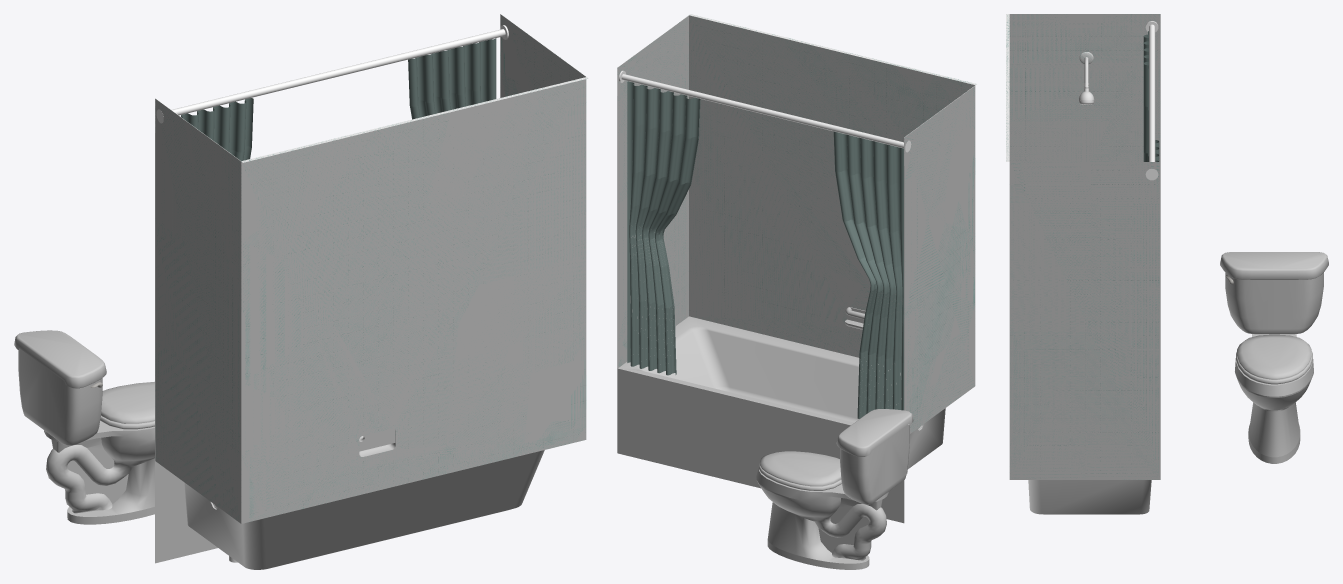
File: showerTub.dae
3 views of the same model, side by side, from view 1: azimuth 30°, elevation 25°; view 2: azimuth 150°, elevation 25°; view 3: azimuth 270°, elevation 25° (orthographic). The views are drawn at different scales.
Parts seen in each view (by area): view 1: Component_9 (×5), Bowl, Component_3 (×2), Tank (×2), Lid (×2), Component_69, Seat_Lid (×2), Component_4; view 2: Component_9 (×4), Bowl, Component_4 (×2), Component_3 (×2), Component_11 (×2), Tank (×2), Component_12 (×2), Seat_Lid (×2), Lid (×2), Component_69; view 3: Component_9 (×3), Tank (×2), Bowl (×2), Lid (×2), Seat_Lid (×2), Component_69, Component_3.
Boxes of the visible parts, bbox=[...] form: Component_9 (×5): bbox=[155, 14, 588, 569]; Bowl: bbox=[47, 421, 154, 524]; Component_3 (×2): bbox=[181, 38, 496, 152]; Tank (×2): bbox=[18, 349, 102, 445]; Lid (×2): bbox=[14, 330, 106, 388]; Component_69: bbox=[172, 29, 505, 115]; Seat_Lid (×2): bbox=[101, 382, 154, 423]; Component_4: bbox=[410, 85, 496, 119]; Component_9 (×4): bbox=[617, 14, 976, 523]; Bowl: bbox=[756, 468, 885, 569]; Component_4 (×2): bbox=[627, 121, 903, 235]; Component_3 (×2): bbox=[627, 81, 903, 187]; Component_11 (×2): bbox=[627, 168, 903, 269]; Tank (×2): bbox=[840, 424, 909, 504]; Component_12 (×2): bbox=[627, 202, 903, 298]; Seat_Lid (×2): bbox=[760, 451, 841, 486]; Lid (×2): bbox=[836, 409, 913, 456]; Component_69: bbox=[621, 74, 903, 148]; Component_9 (×3): bbox=[1006, 14, 1160, 514]; Tank (×2): bbox=[1225, 272, 1323, 334]; Bowl (×2): bbox=[1235, 334, 1313, 463]; Lid (×2): bbox=[1220, 252, 1328, 279]; Seat_Lid (×2): bbox=[1237, 334, 1311, 379]; Component_69: bbox=[1149, 24, 1155, 161]; Component_3: bbox=[1143, 31, 1148, 110].
Size of the model in its own units: 74.5 by 60.3 by 84.07.
